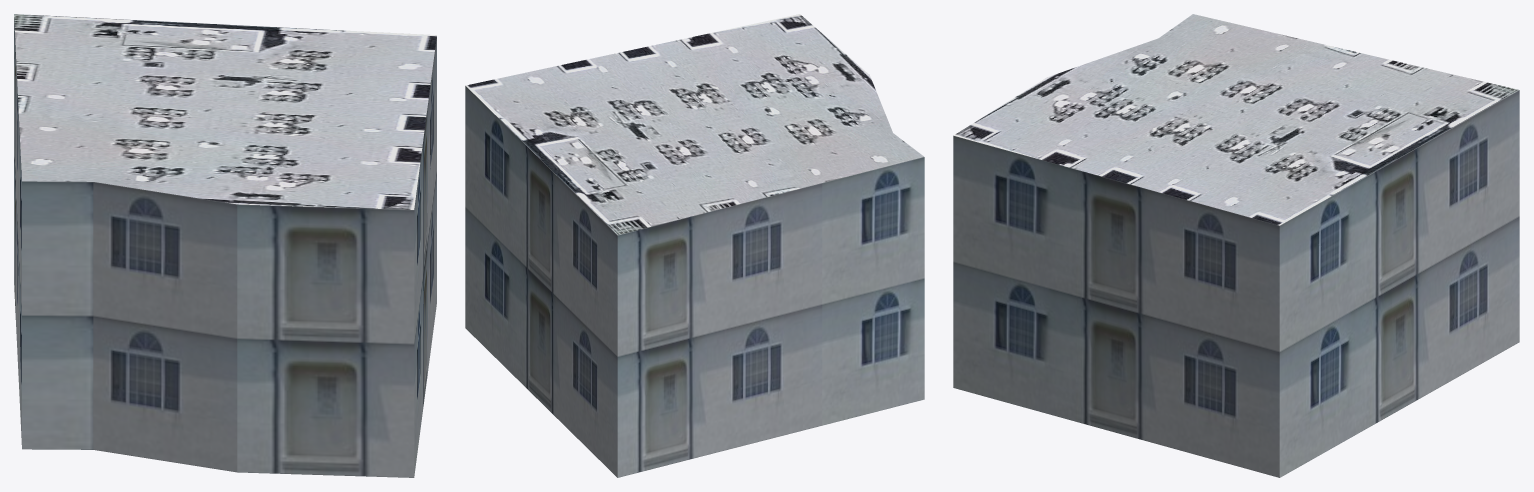
The model's file is ResTex__3959.fbx.
3 views of the same model, side by side, from view 1: azimuth 30°, elevation 25°; view 2: azimuth 150°, elevation 25°; view 3: azimuth 270°, elevation 25° (orthographic). The views are drawn at different scales.
Parts seen in each view (by area): view 1: CityEngineMaterial_17_m, CityEngineMaterial_2_m; view 2: CityEngineMaterial_17_m, CityEngineMaterial_2_m; view 3: CityEngineMaterial_17_m, CityEngineMaterial_2_m.
Boxes of the visible parts, box(x1,y1,x2,y2) form: CityEngineMaterial_17_m: box(14, 17, 436, 477); CityEngineMaterial_2_m: box(14, 14, 436, 209); CityEngineMaterial_17_m: box(465, 86, 924, 477); CityEngineMaterial_2_m: box(465, 14, 923, 235); CityEngineMaterial_17_m: box(953, 90, 1519, 477); CityEngineMaterial_2_m: box(954, 14, 1518, 225).
Bounding box in the file's own units: 10.8 × 6 × 12.21.
2 materials, 2 textured.
